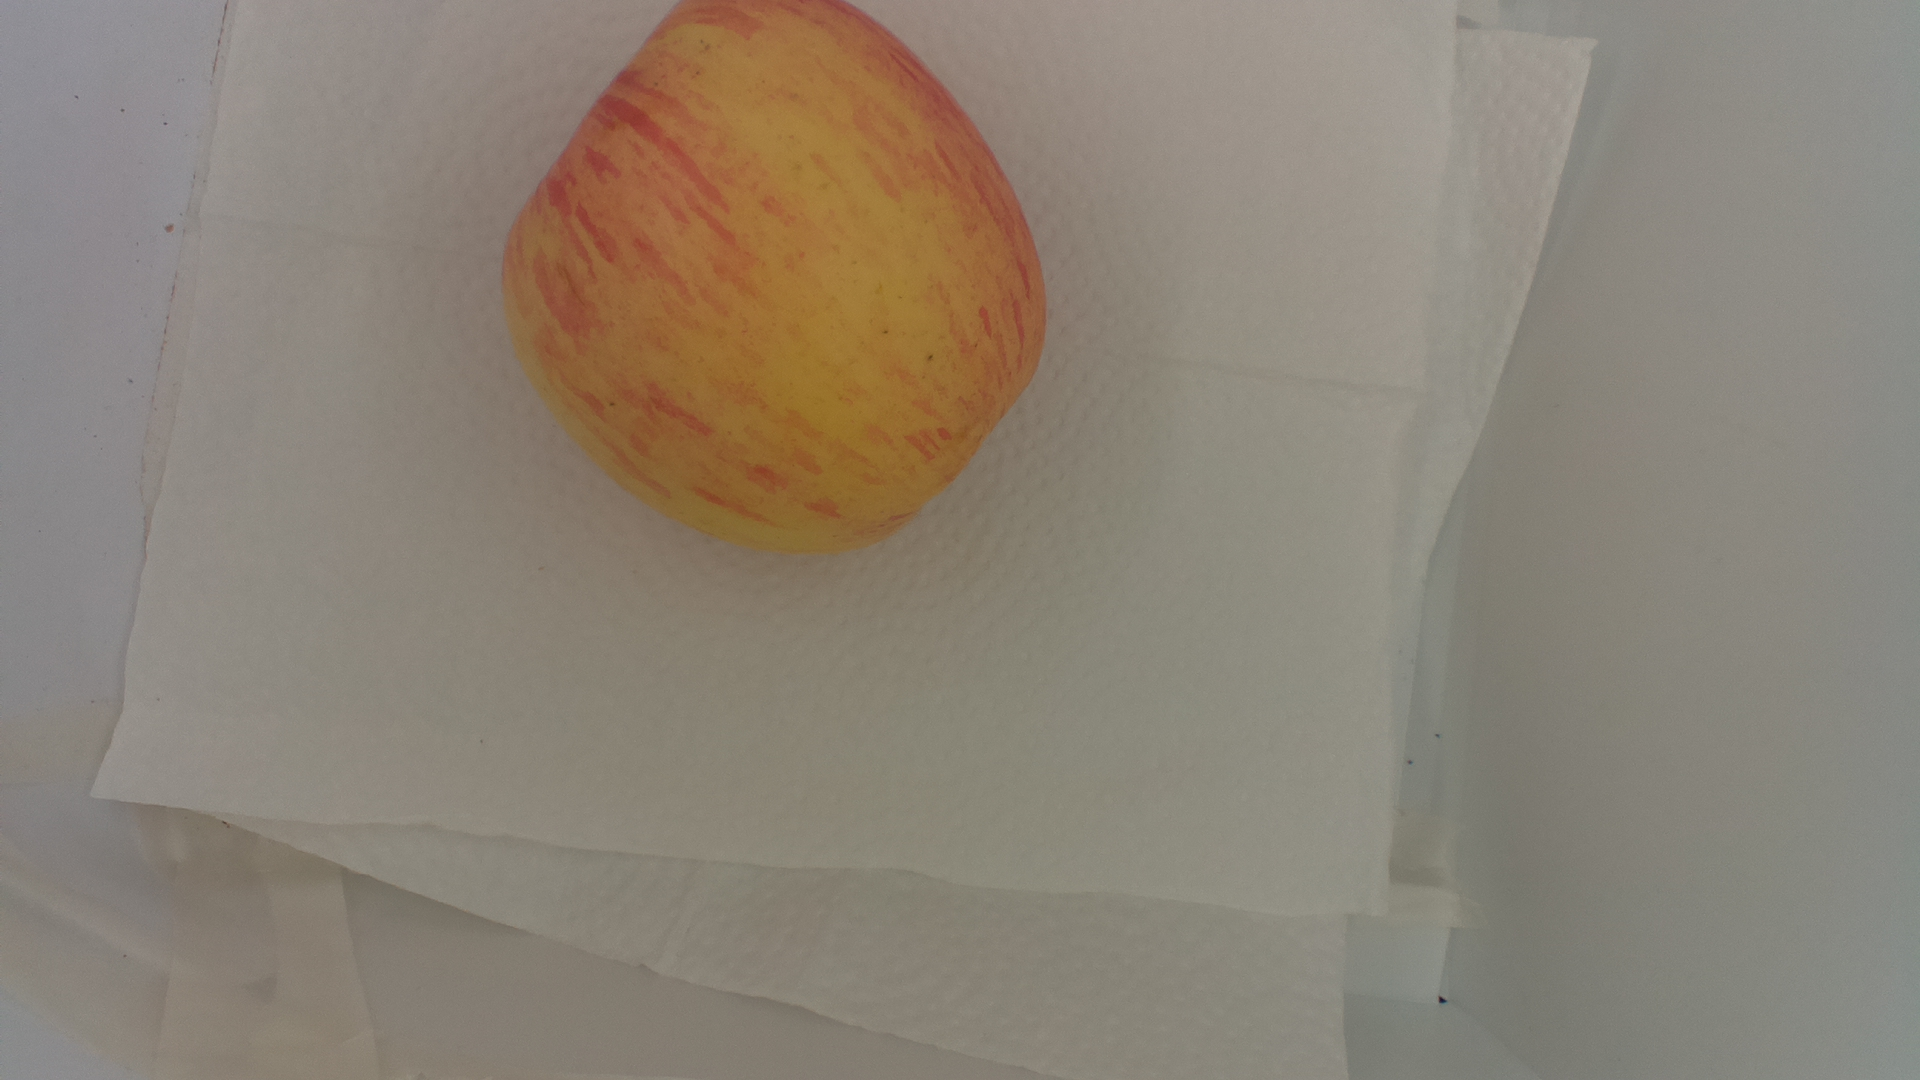fruit: (498, 1, 1048, 564)
